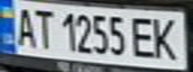1: (54, 9, 75, 52)
2: (72, 10, 93, 55)
5: (106, 12, 130, 57), (90, 11, 112, 56)
A: (9, 3, 39, 48)
E: (127, 14, 160, 61)
K: (148, 14, 184, 62)
T: (30, 6, 57, 51)
